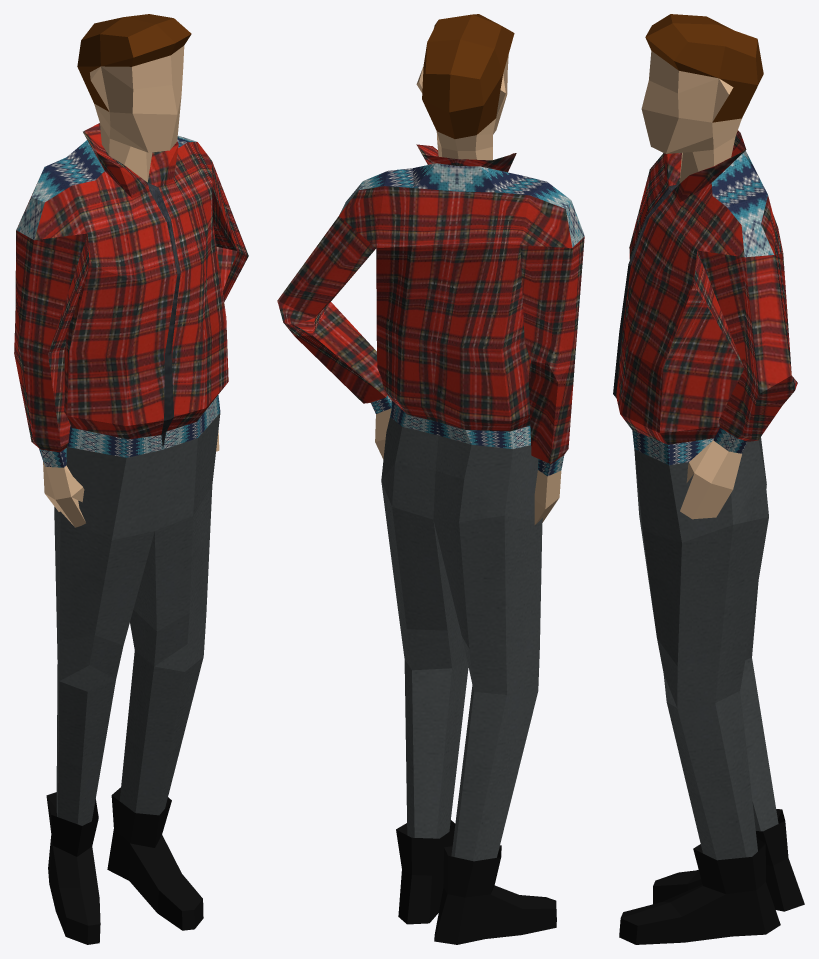
The model's file is AutumnManC.010.glb.
The picture shows the model from 3 angles, left to right: view 1: azimuth 30°, elevation 25°; view 2: azimuth 150°, elevation 25°; view 3: azimuth 270°, elevation 25°; orthographic projection. The views are drawn at different scales.
Parts seen in each view (by area): view 1: AutumnManC.010; view 2: AutumnManC.010; view 3: AutumnManC.010.
Part boxes in pixels (x1,y1,x2,y2): AutumnManC.010: (14, 14, 248, 944); AutumnManC.010: (277, 14, 584, 944); AutumnManC.010: (613, 14, 804, 944).
Size of the model in its own units: 0.5382 by 1.79 by 0.3405.
1 material, 1 textured.
